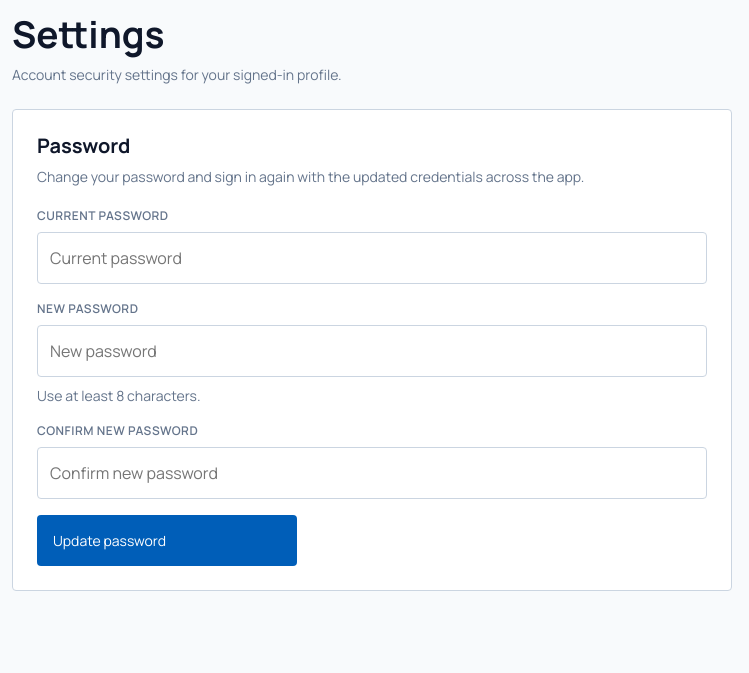
Test case: SettingsPage › shows API errors when the password update fails
In the password field with id "current-password": (372, 258) 37,232 -> 707,284, type "wrong-password"
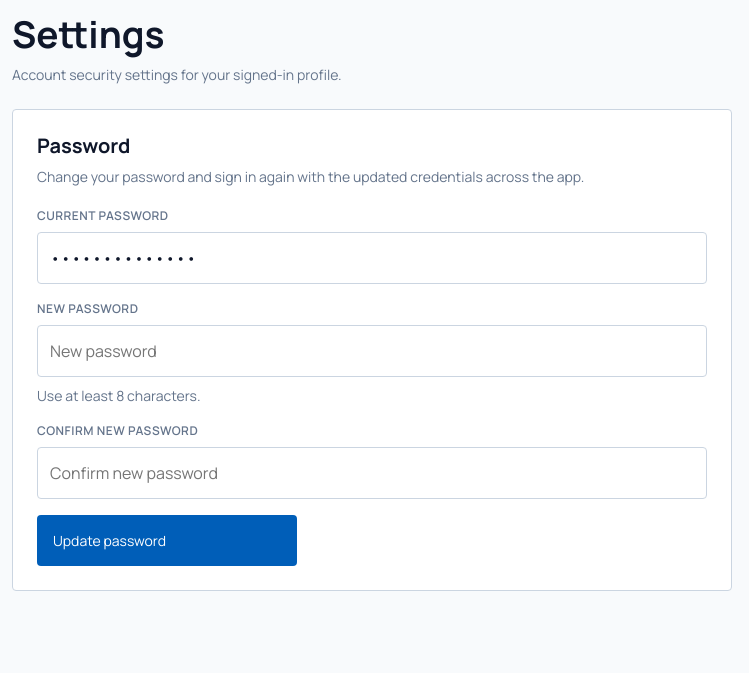
In the password field with id "new-password": (372, 351) 37,325 -> 707,377, type "new-password123"
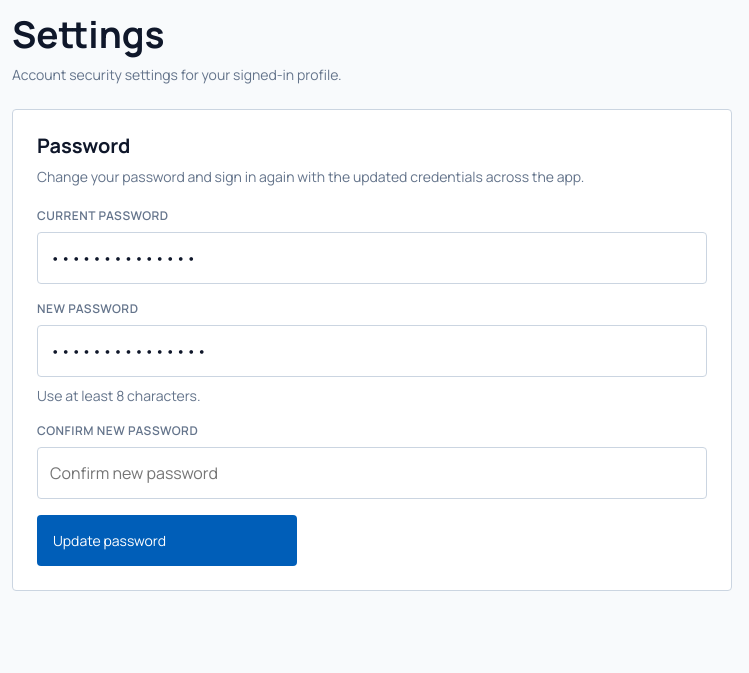
In the password field with id "confirm-new-password": (372, 473) 37,447 -> 707,499, type "new-password123"
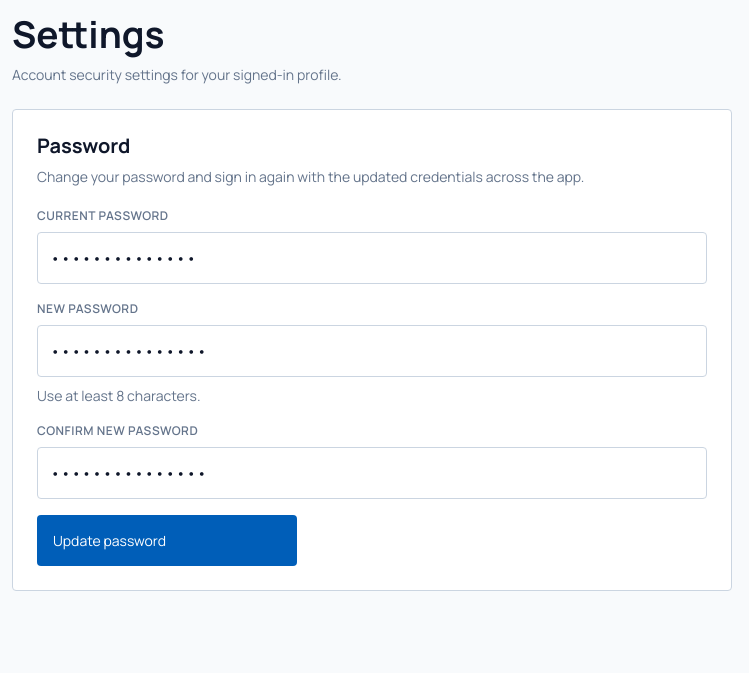
Submit the form, box 37,207 -> 707,566
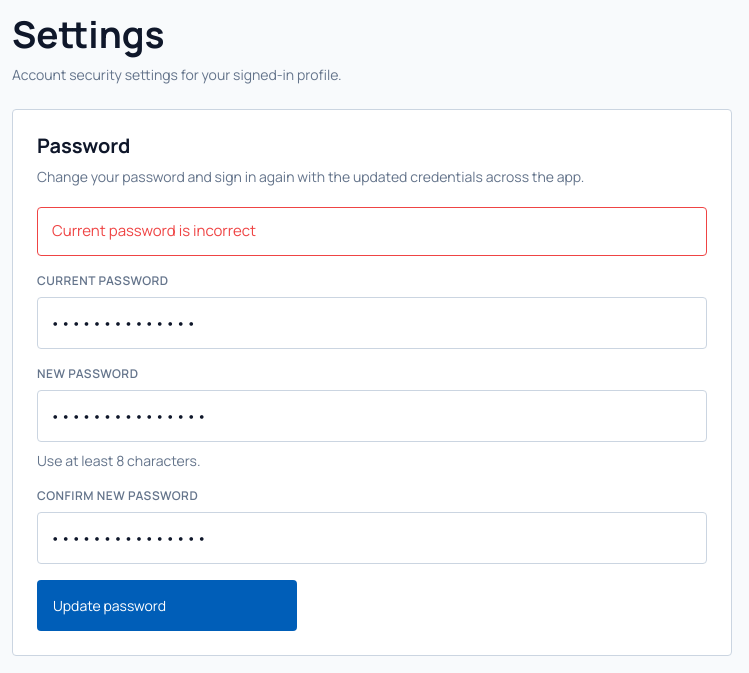
Now the text "Current password is incorrect" is shown, box 37,207 -> 707,256
